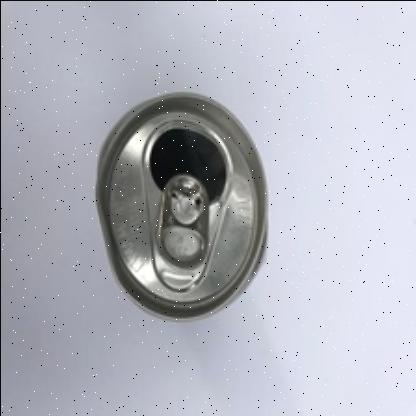Can: (96, 92, 266, 322)
